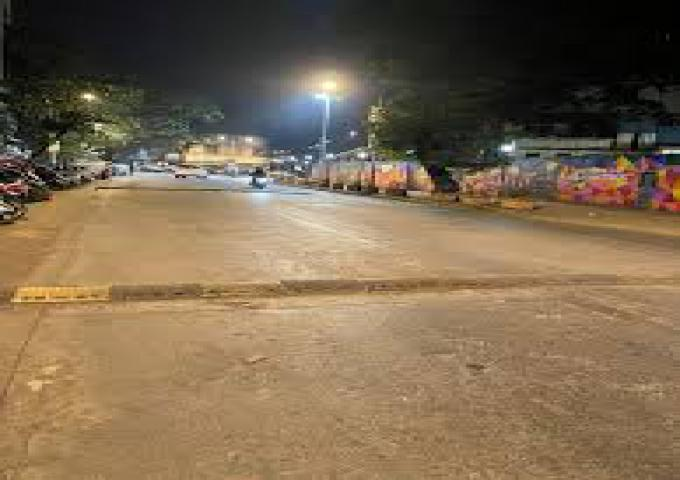Speed_Breaker: (0, 267, 680, 310), (0, 273, 679, 300)
